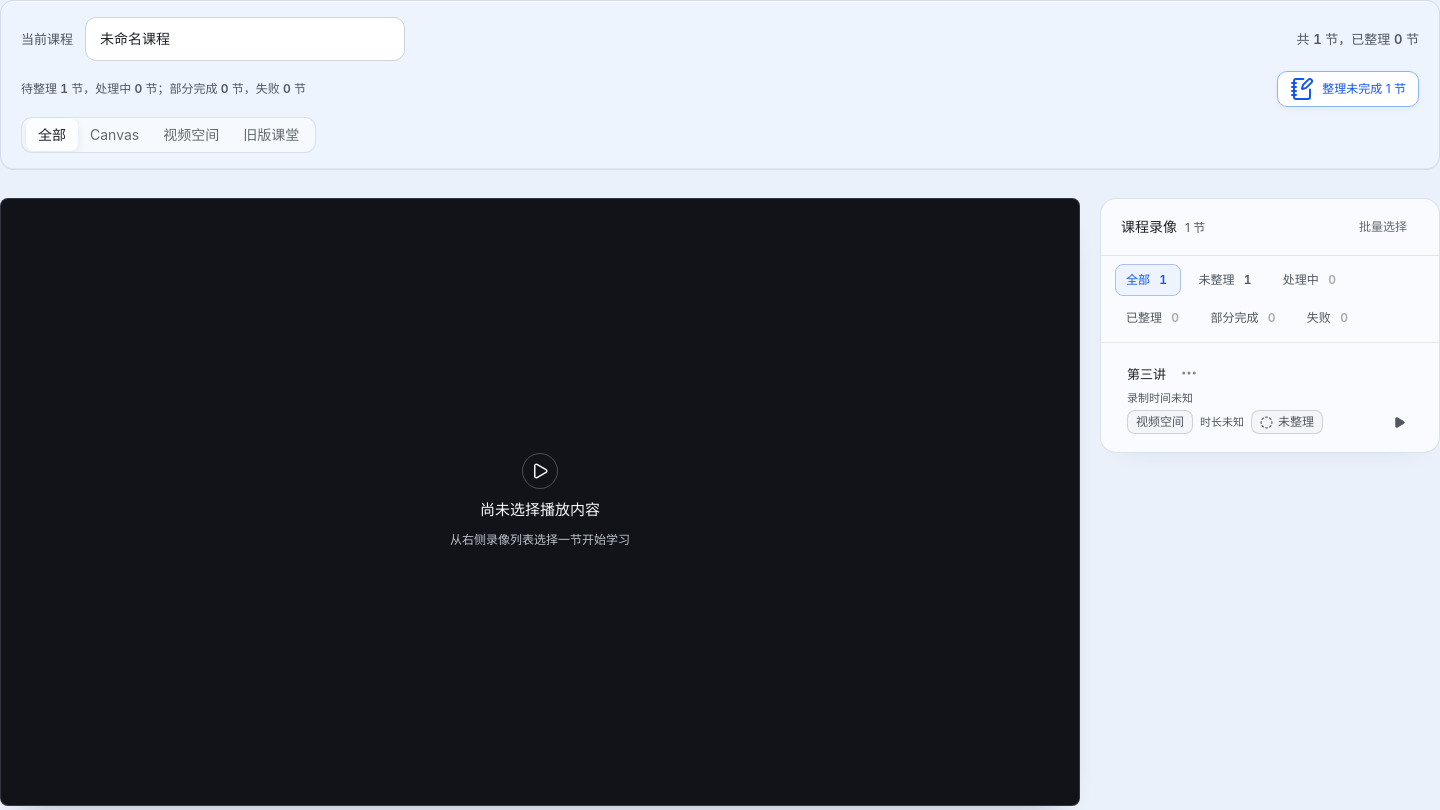
VideosView › 更多菜单保留操作并支持方向键、Escape 与外部点击关闭
Press ArrowDown in the button named "第三讲 更多操作", box [1174,359,1204,387]
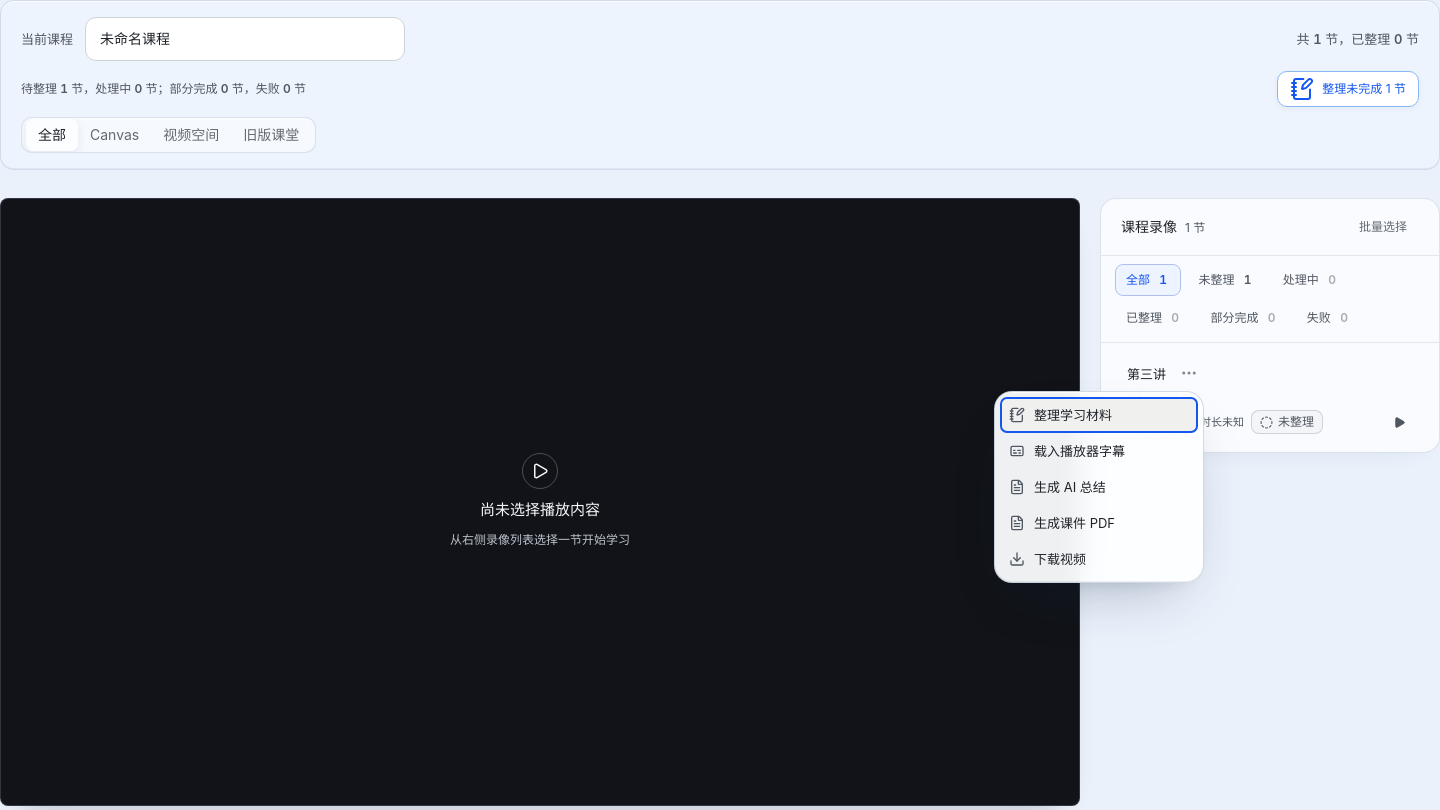
Expected: the menu item "整理学习材料" is shown
Expected: the menu item "载入播放器字幕" is shown, [1000,433,1198,469]
Expected: the menu item "生成 AI 总结" is shown, [1000,469,1198,505]
Press ArrowDown in the menu item "整理学习材料", box [1000,397,1198,433]
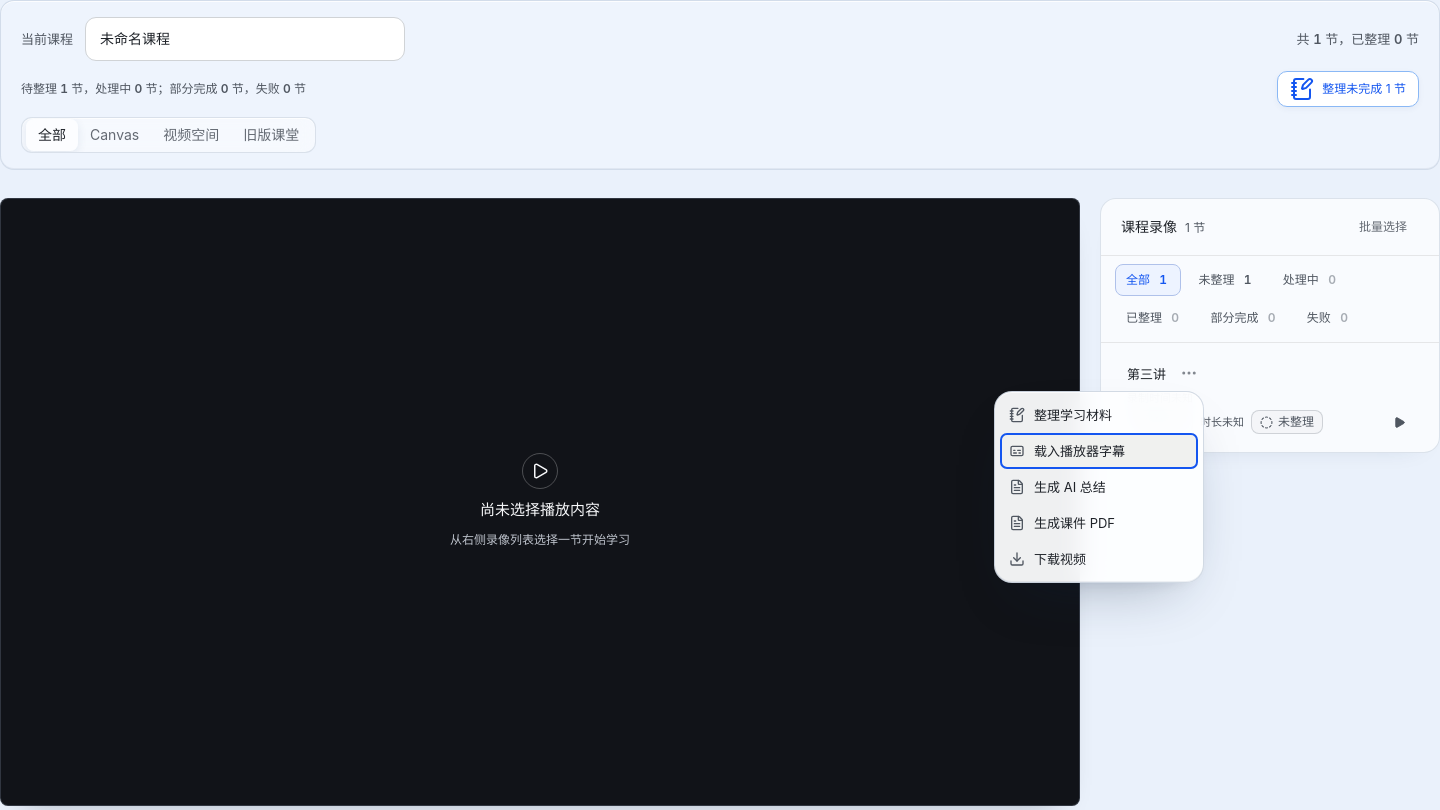
Press Escape in the menu item "载入播放器字幕", box [1000,433,1198,469]
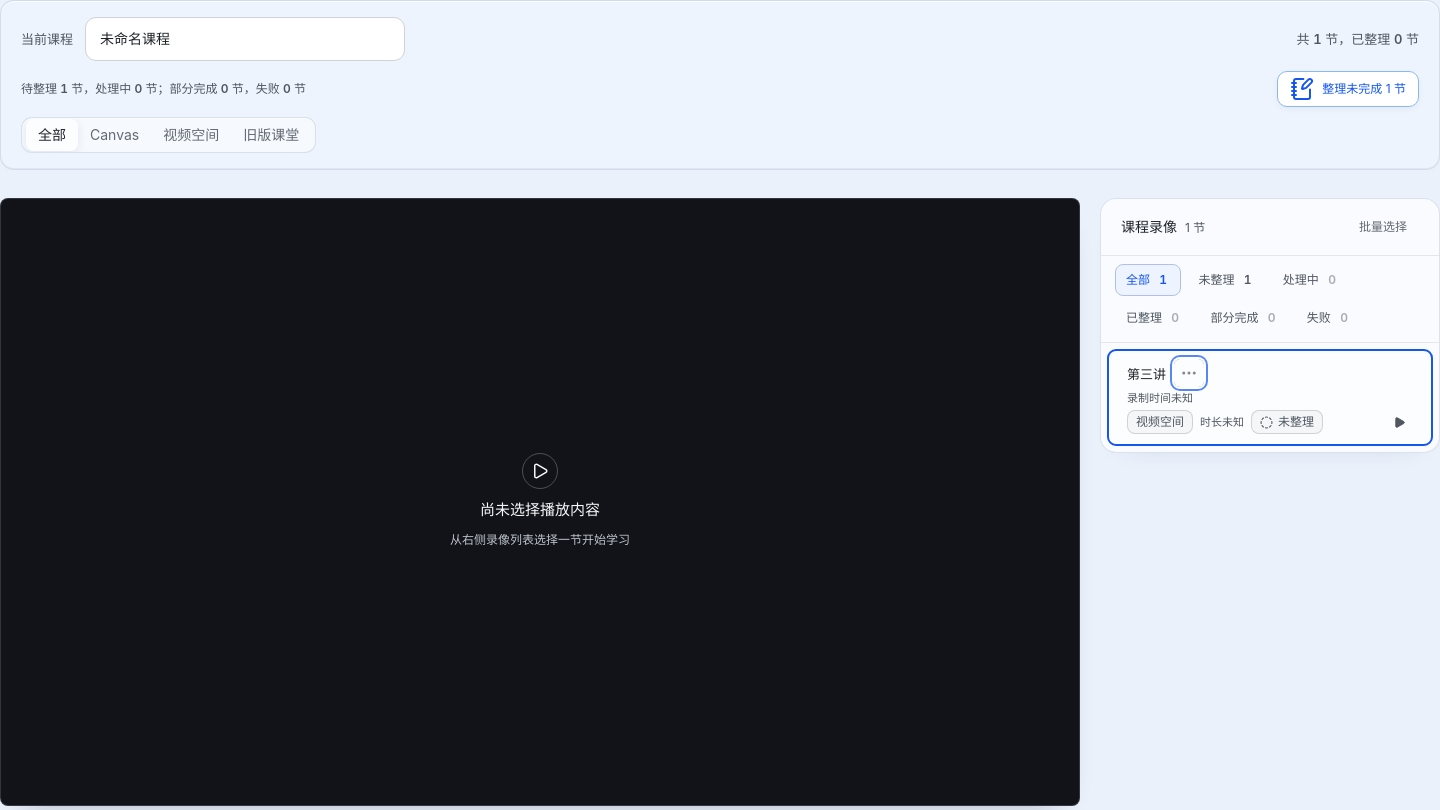
Expected: the menu is gone
Click the button named "第三讲 更多操作" at (1189, 373), box [1174,359,1204,387]
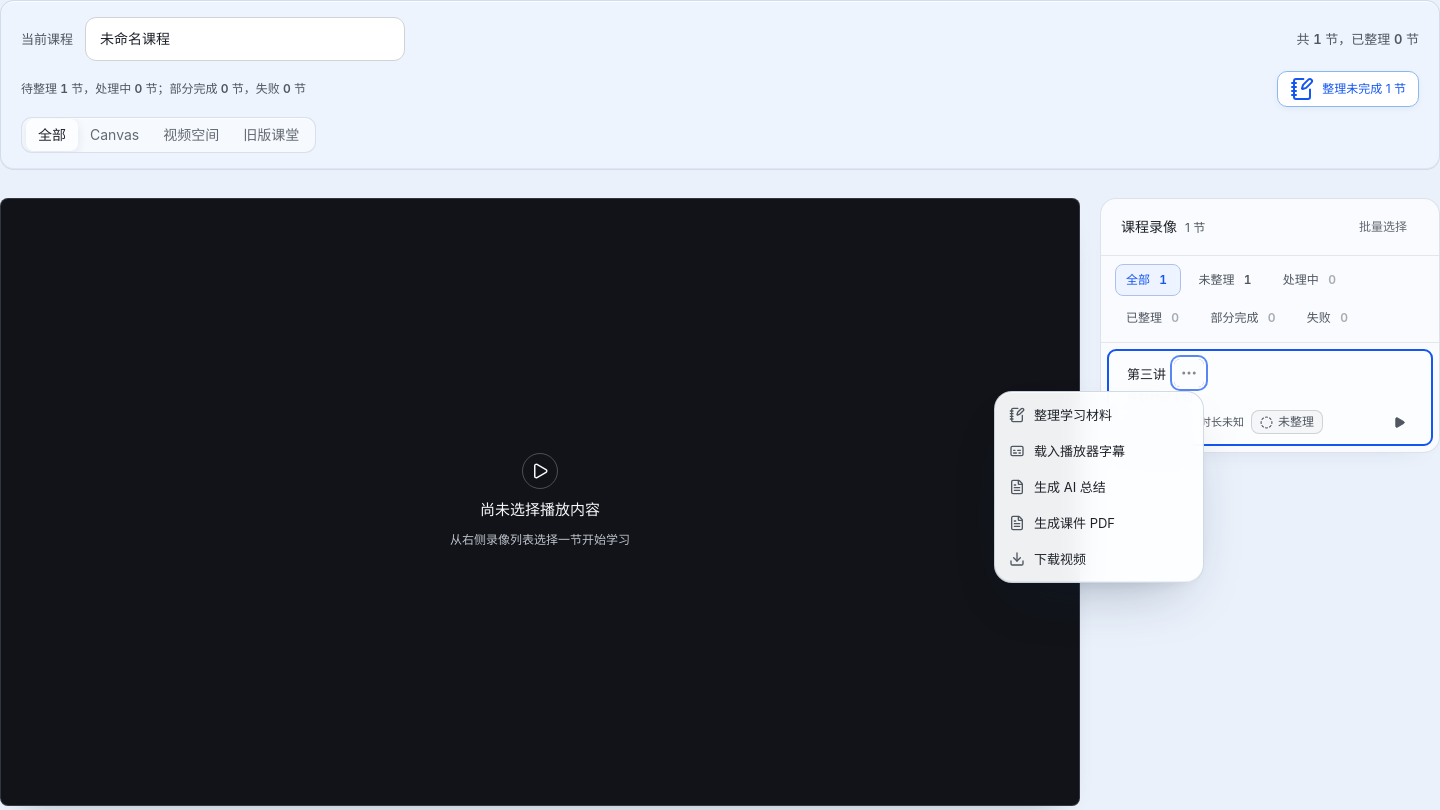
Press the mouse on the element that starts with "当前课程" at (720, 405), box [0,0,1439,809]
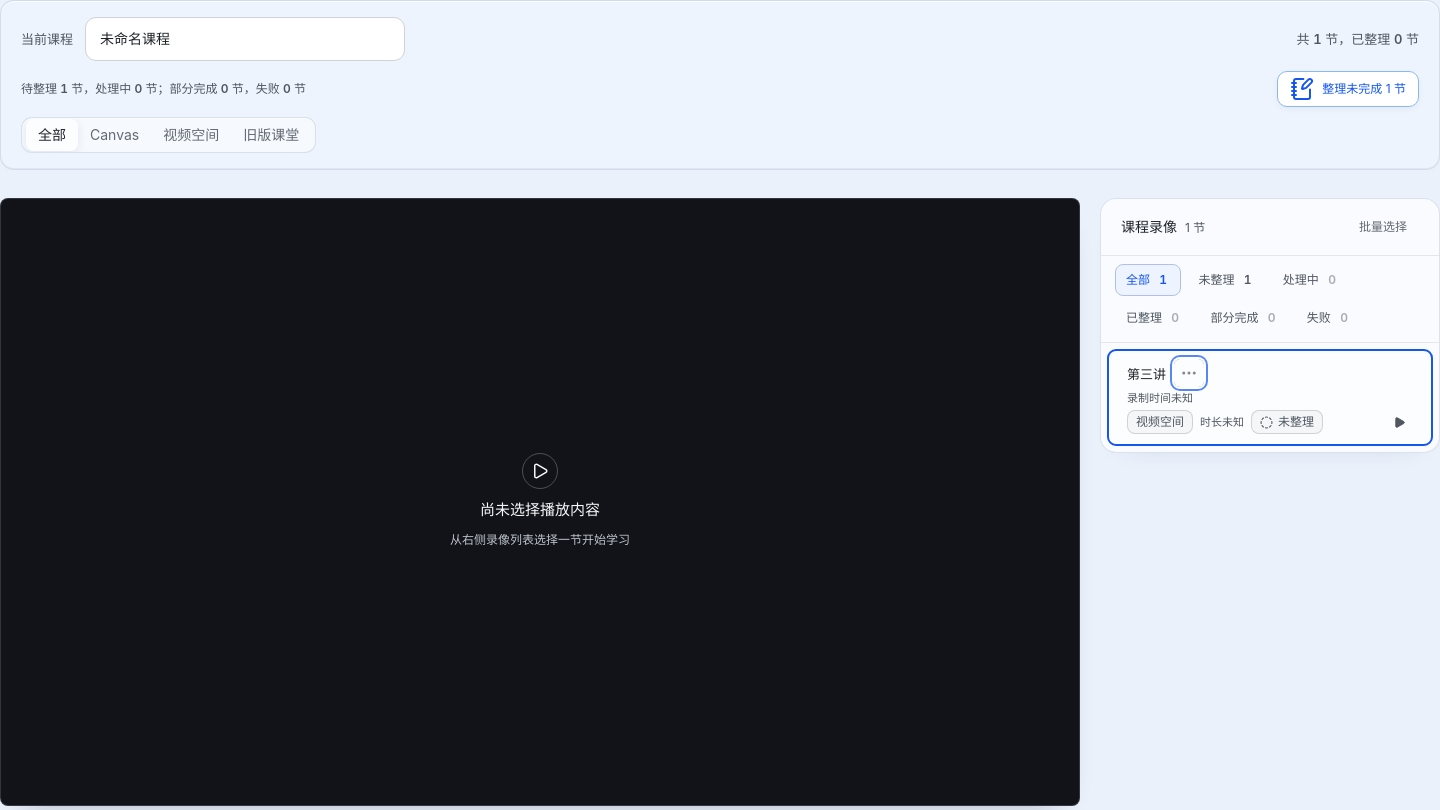
Expected: the menu is gone
